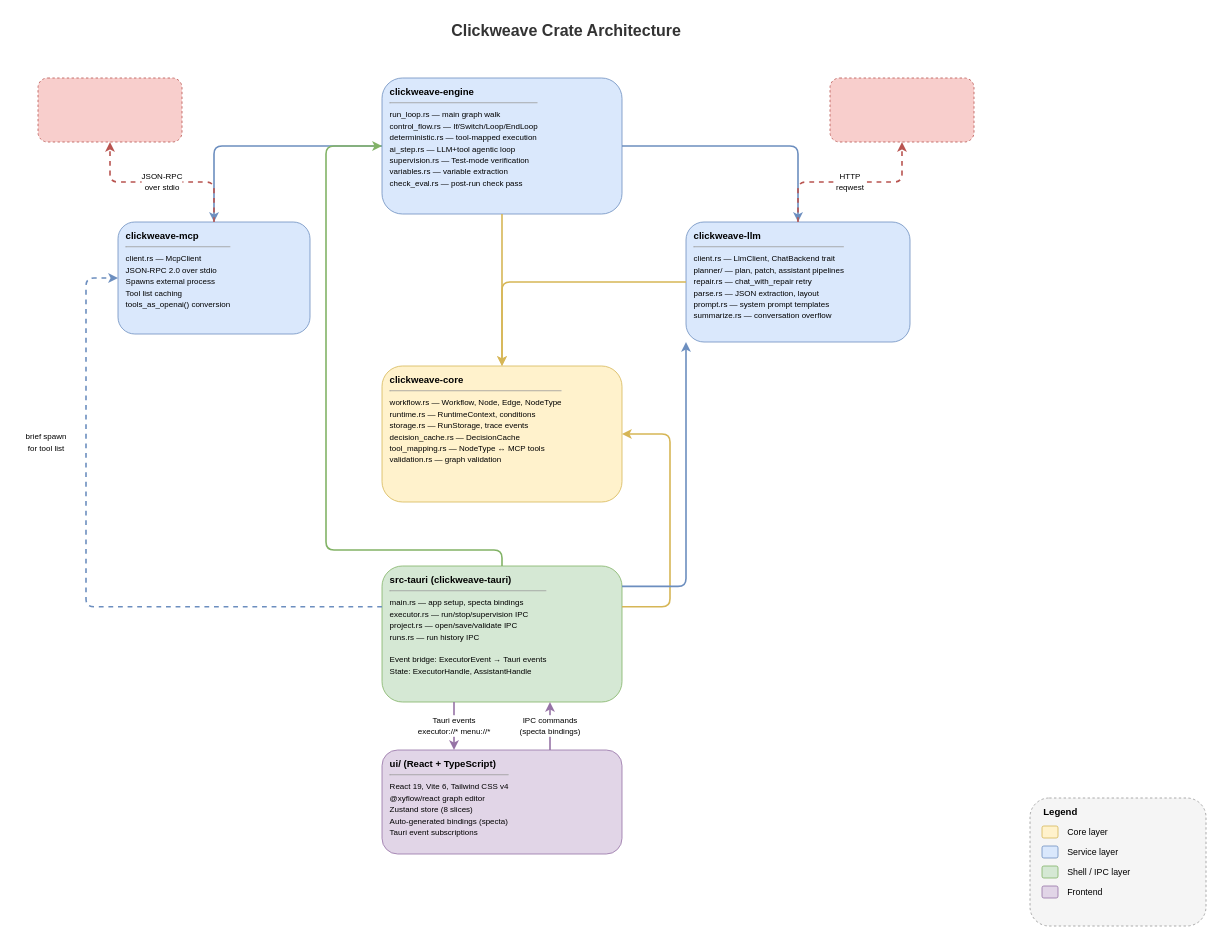
Some shapes in this 1220 by 940 pixel diagram are drawn without their labels. Here are the shapes that lost their labels. From the top down, the centre of each, then its label:
At [109,109]: "native-devtools-mcp External process (npx or binary)".
At [901,109]: "LLM API OpenAI-compatible /v1/chat/completions".
